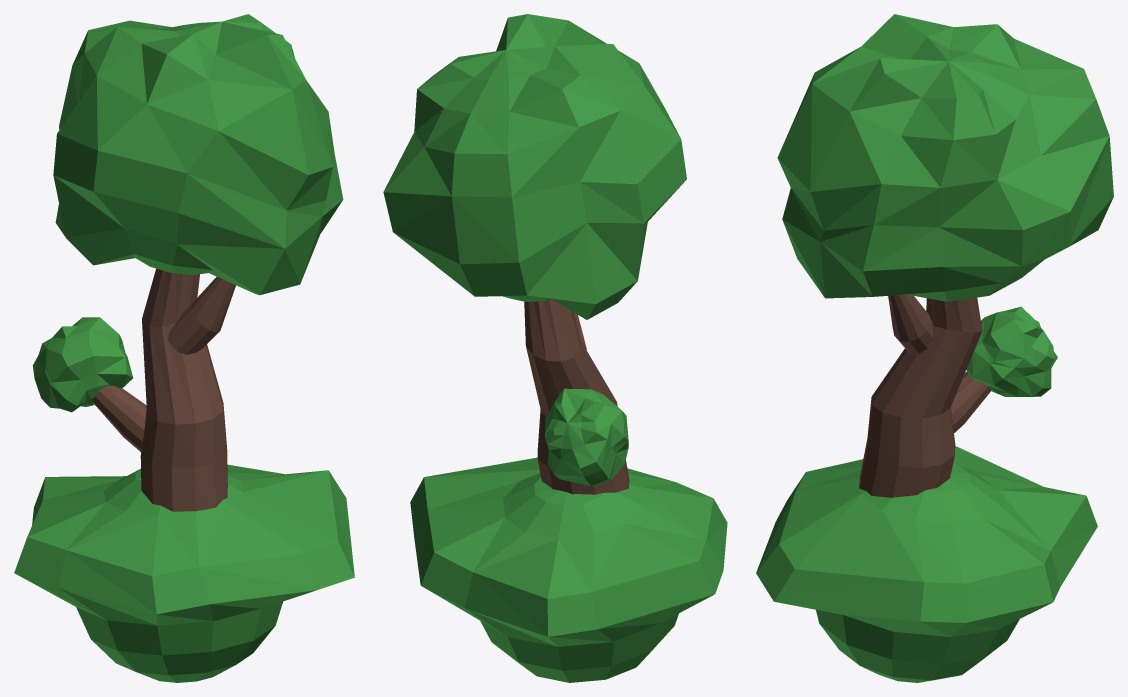
The picture shows the model from 3 angles, left to right: view 1: azimuth 30°, elevation 25°; view 2: azimuth 150°, elevation 25°; view 3: azimuth 270°, elevation 25°; orthographic projection. The views are drawn at different scales.
Visible parts, largest first — view 1: node_MeshObject1988525056-PolyPaper21; view 2: node_MeshObject1988525056-PolyPaper21; view 3: node_MeshObject1988525056-PolyPaper21.
Boxes of the visible parts, bbox=[...] form: node_MeshObject1988525056-PolyPaper21: bbox=[14, 14, 354, 682]; node_MeshObject1988525056-PolyPaper21: bbox=[383, 14, 727, 682]; node_MeshObject1988525056-PolyPaper21: bbox=[756, 14, 1113, 682].
Size of the model in its own units: 1.87 by 3.55 by 1.77.
